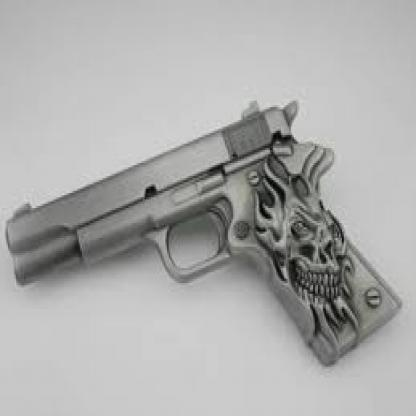Pistol: (16, 60, 388, 412)
